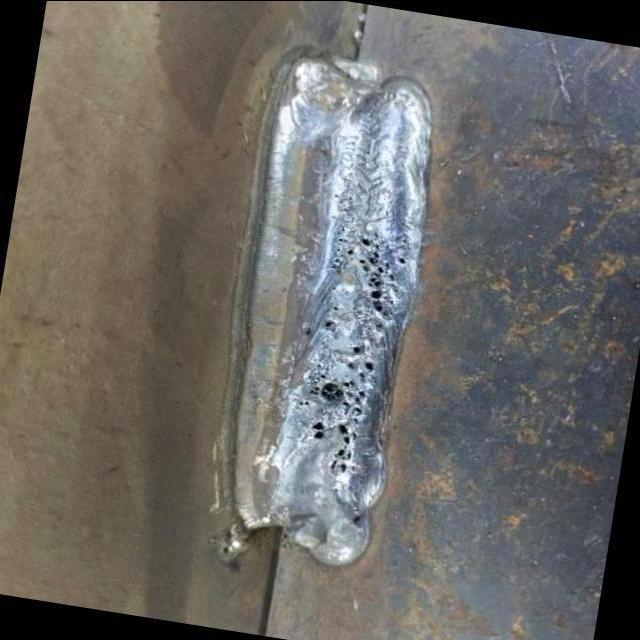defect: (299, 340, 379, 481), (340, 230, 410, 323), (320, 311, 342, 333)
